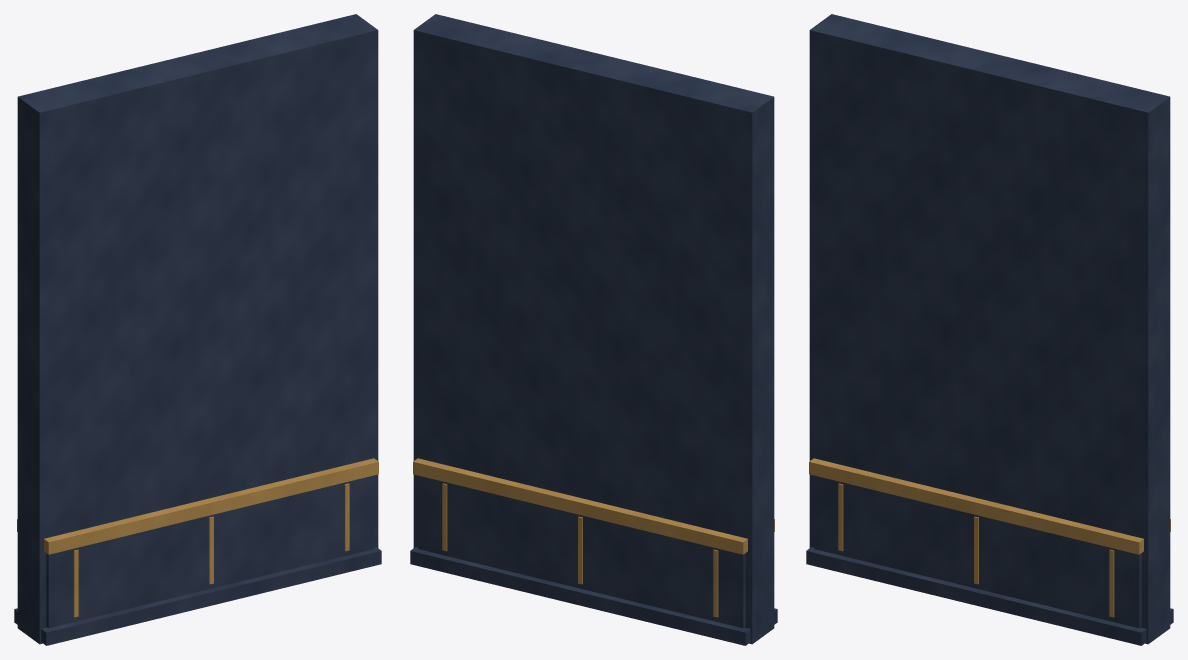
The model's file is SM_Theater_Wall_Scenery4.fbx.
3 renders of one model, left to right at view 1: azimuth 30°, elevation 25°; view 2: azimuth 150°, elevation 25°; view 3: azimuth 330°, elevation 25°, orthographic.
Visible parts, largest first — view 1: SM_Theater_Wall_Scenery4_LOD0; view 2: SM_Theater_Wall_Scenery4_LOD0; view 3: SM_Theater_Wall_Scenery4_LOD0.
Part boxes in pixels (box(x1,y1,x2,y2)): SM_Theater_Wall_Scenery4_LOD0: box(14, 14, 381, 645); SM_Theater_Wall_Scenery4_LOD0: box(410, 14, 777, 645); SM_Theater_Wall_Scenery4_LOD0: box(806, 14, 1173, 645).
Size of what is drawn, in the model's own units: 4 by 6 by 0.66.
